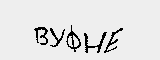В: (33, 22, 47, 47)
Е: (105, 27, 128, 54)
Н: (83, 31, 105, 55)
У: (49, 29, 67, 53)
Ф: (65, 24, 78, 55)
